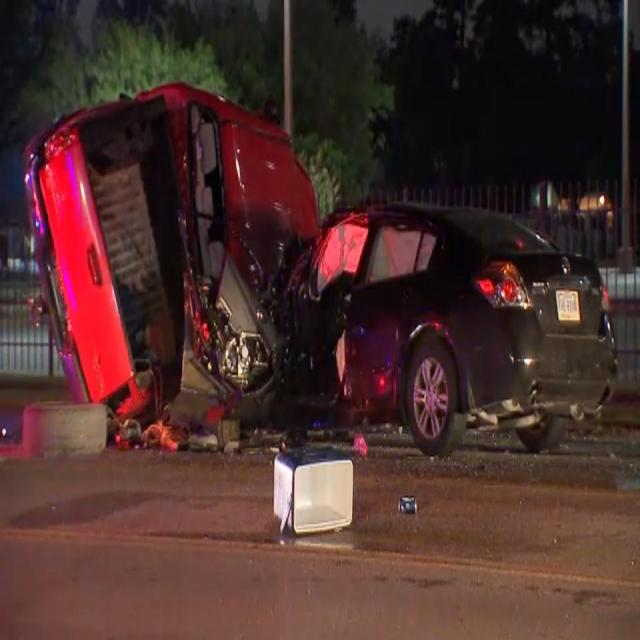accident: (18, 70, 620, 447)
